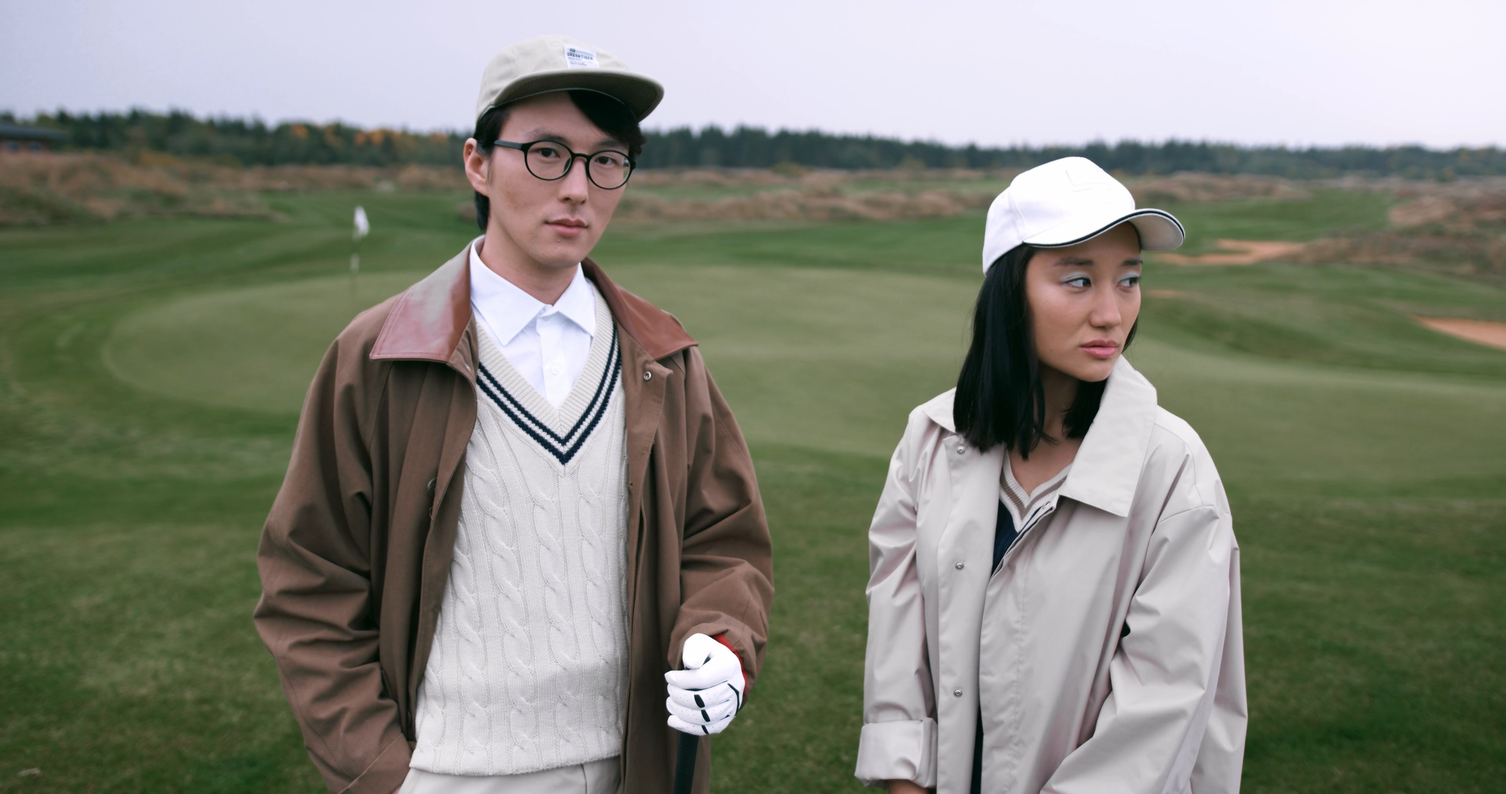gloves: (645, 625, 761, 768)
